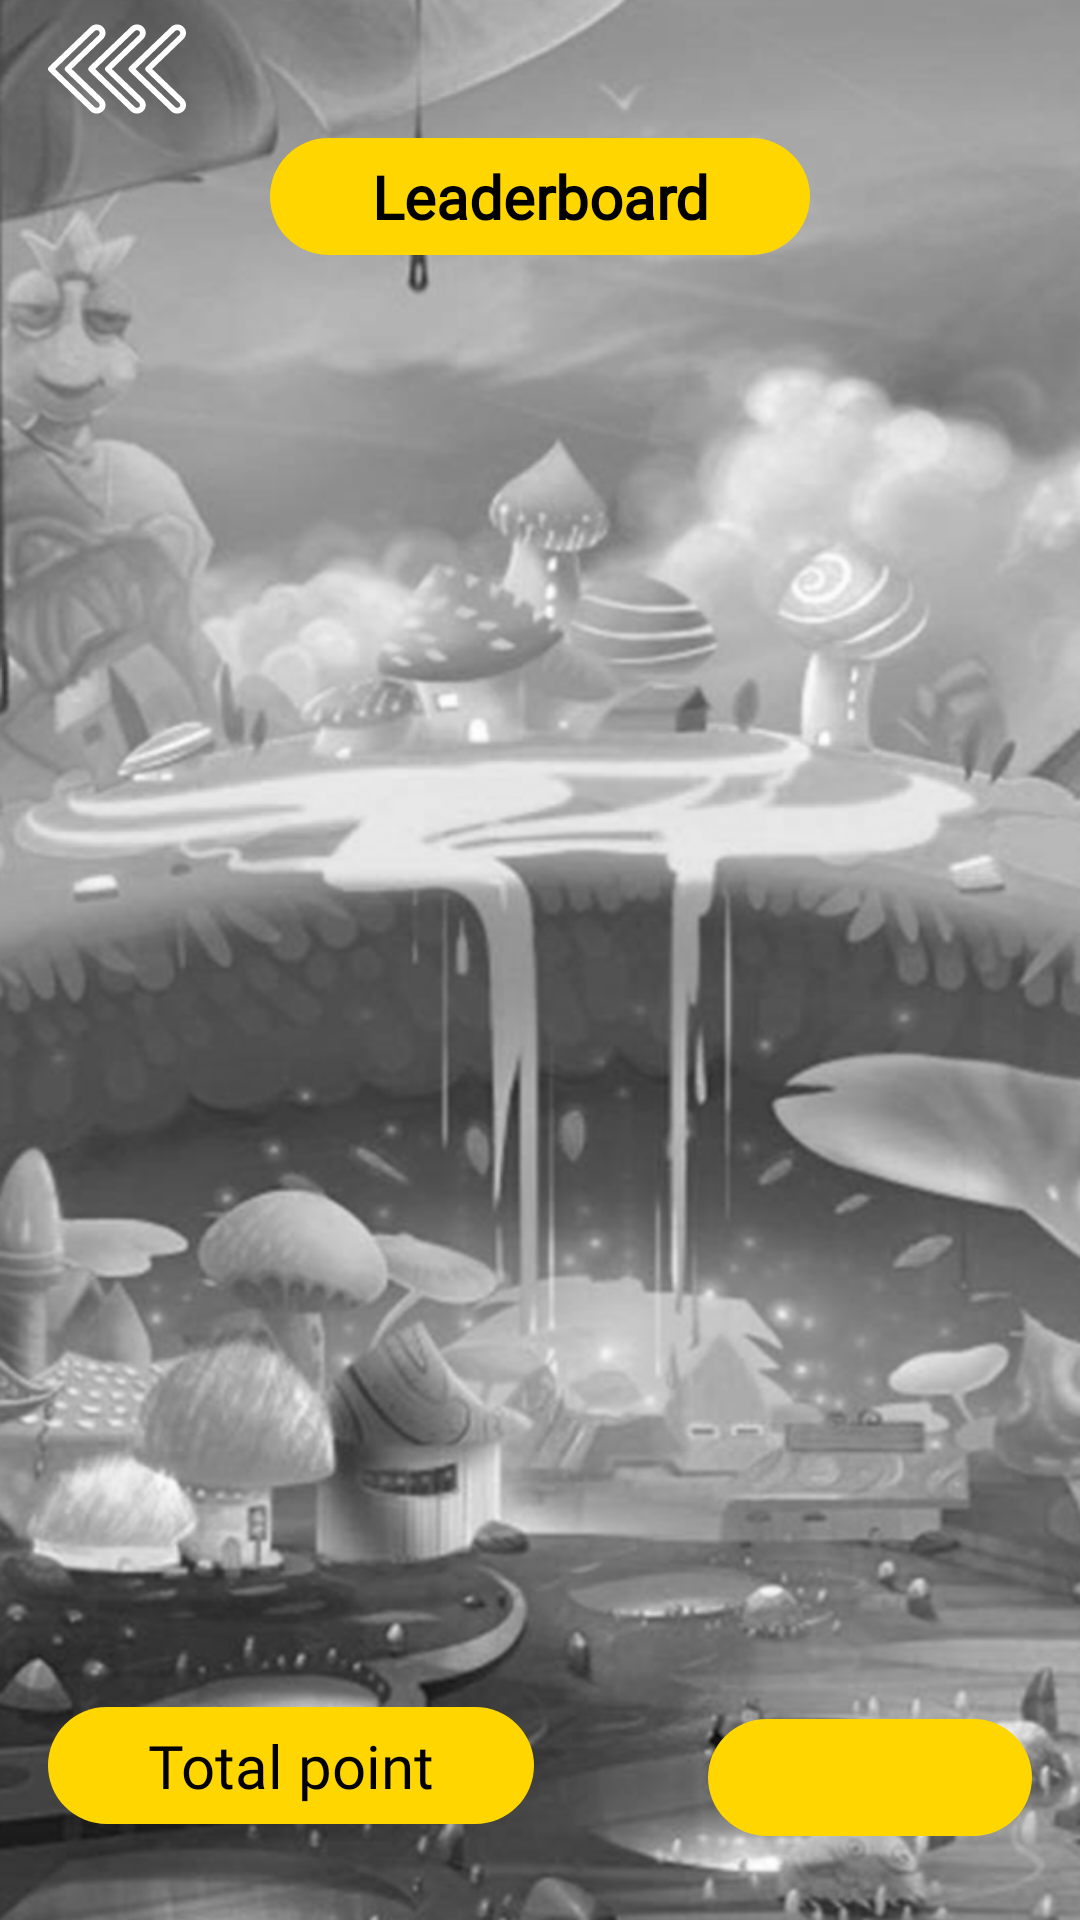

Named icons in this screenshot (1080*1920) and their centers, (x=x, y=y):
back arrow: (x=137, y=69)
